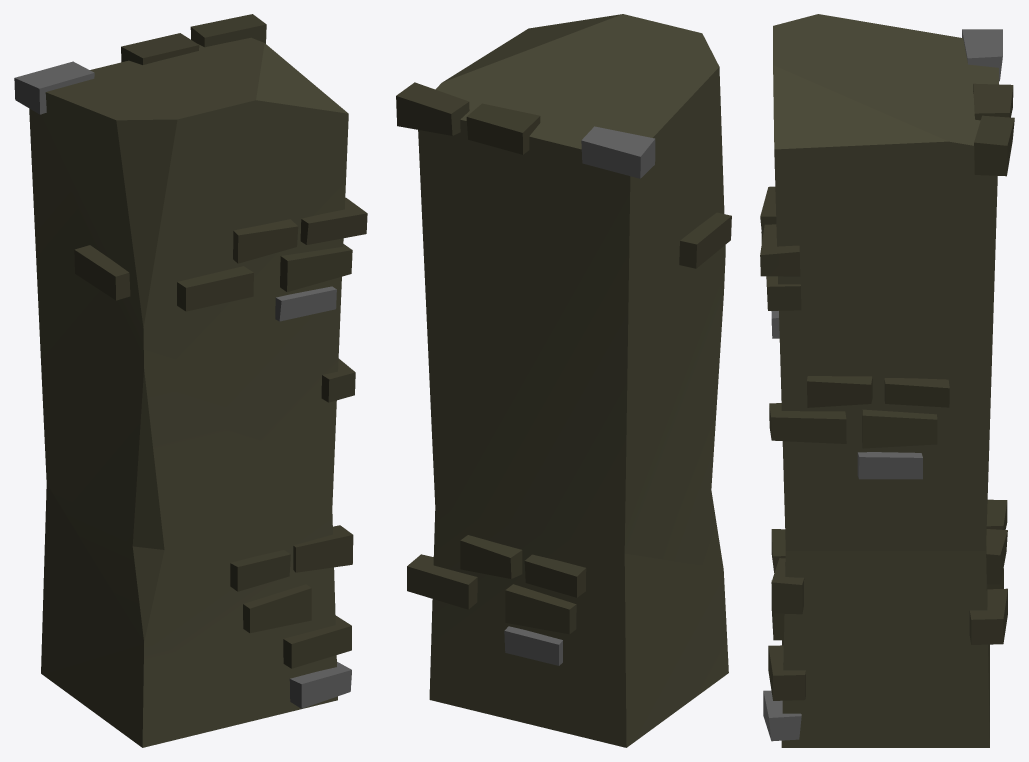
File: ea_arch_wall03_rubble_01e__pre_7_lev1.glb
3 views of the same model, side by side, from view 1: azimuth 30°, elevation 25°; view 2: azimuth 150°, elevation 25°; view 3: azimuth 270°, elevation 25° (orthographic). The views are drawn at different scales.
Parts seen in each view (by area): view 1: ea_arch_wall03_rubble_01e__pre_7_lev1; view 2: ea_arch_wall03_rubble_01e__pre_7_lev1; view 3: ea_arch_wall03_rubble_01e__pre_7_lev1.
Boxes of the visible parts, left/top/right/bottom form: ea_arch_wall03_rubble_01e__pre_7_lev1: left=14, top=14, right=367, bottom=747; ea_arch_wall03_rubble_01e__pre_7_lev1: left=396, top=14, right=731, bottom=747; ea_arch_wall03_rubble_01e__pre_7_lev1: left=760, top=14, right=1014, bottom=747.
Size of the model in its own units: 1.05 by 2.61 by 0.9425.
1 material, 1 textured.
